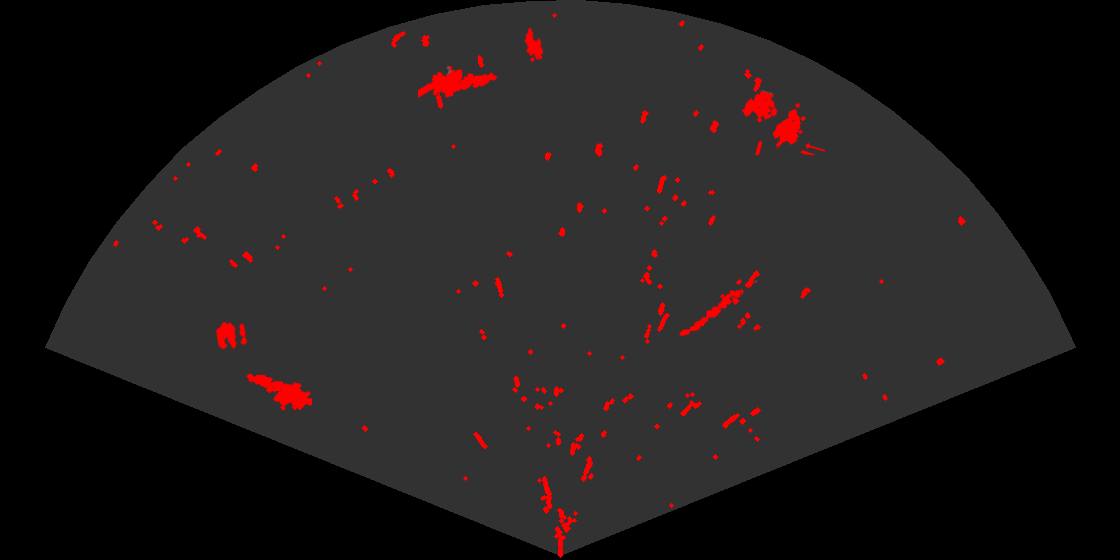AUV: (523, 26, 545, 62)
ball: (214, 320, 249, 351)
cage: (740, 90, 825, 155)
chain: (678, 279, 759, 338)
frogman: (418, 64, 499, 99), (245, 372, 312, 412)
